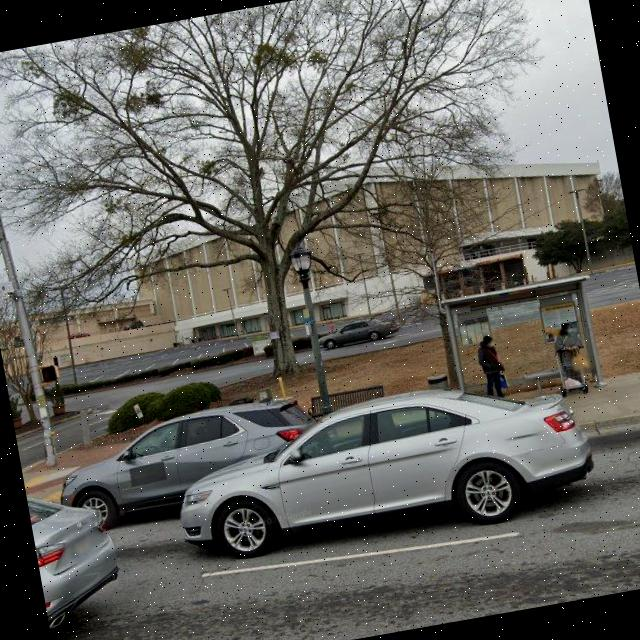seating: (304, 383, 388, 422), (524, 364, 573, 396)
shelter: (439, 272, 611, 418)
trash_can: (426, 372, 448, 392)
